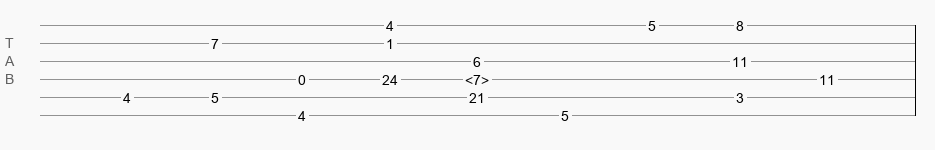0: (298, 72, 306, 82)
1: (386, 36, 394, 46)
11: (732, 54, 748, 64), (819, 72, 835, 82)
21: (469, 90, 485, 100)
24: (382, 72, 398, 82)
3: (736, 90, 744, 100)
4: (123, 90, 131, 100), (298, 108, 306, 118), (386, 18, 394, 28)
5: (211, 90, 219, 100), (561, 108, 569, 118), (648, 18, 656, 28)
6: (473, 54, 481, 64)
7: (211, 36, 219, 46)
8: (736, 18, 744, 28)
harmonic: (465, 72, 489, 82)
